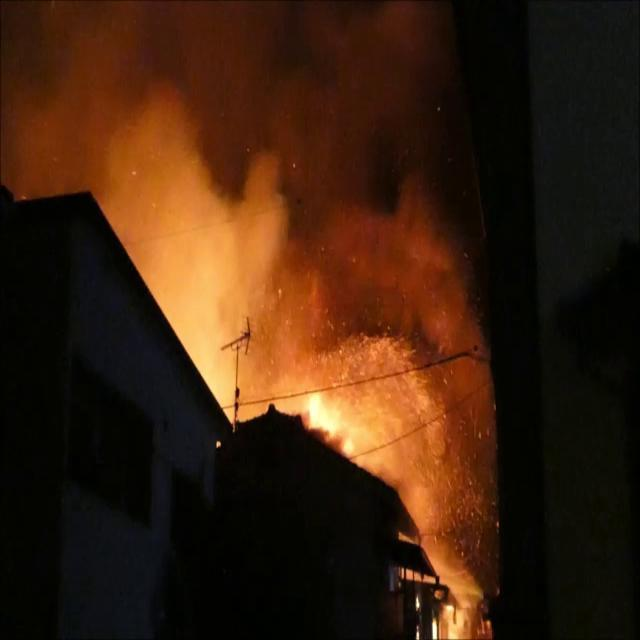Fire: (302, 371, 396, 488)
Smoke: (1, 0, 466, 365)
